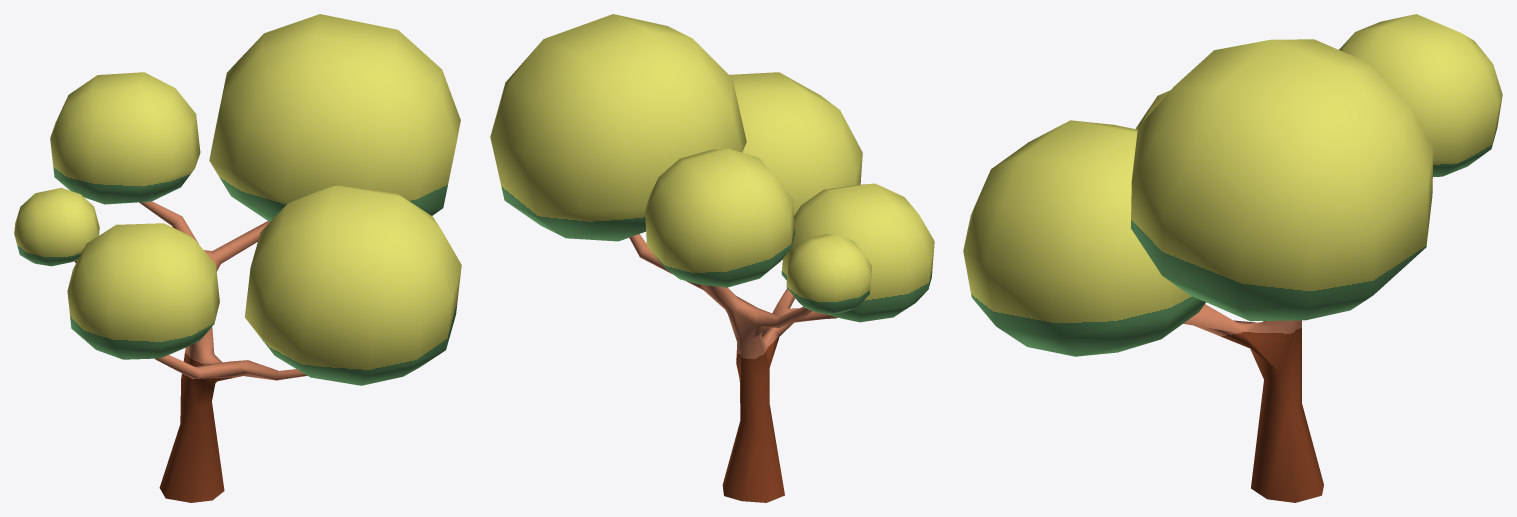
The model's file is tree_round3.obj.
The picture shows the model from 3 angles, left to right: view 1: azimuth 30°, elevation 25°; view 2: azimuth 150°, elevation 25°; view 3: azimuth 270°, elevation 25°; orthographic projection. The views are drawn at different scales.
Parts seen in each view (by area): view 1: Tree.034_Circle.024; view 2: Tree.034_Circle.024; view 3: Tree.034_Circle.024.
Boxes of the visible parts, x1,y1,x2,y2 form: Tree.034_Circle.024: (14,14,461,502); Tree.034_Circle.024: (490,14,934,502); Tree.034_Circle.024: (963,14,1502,502).
Size of the model in its own units: 7.65 by 7.94 by 7.55.
Materials: 1 (1 with a texture image).
